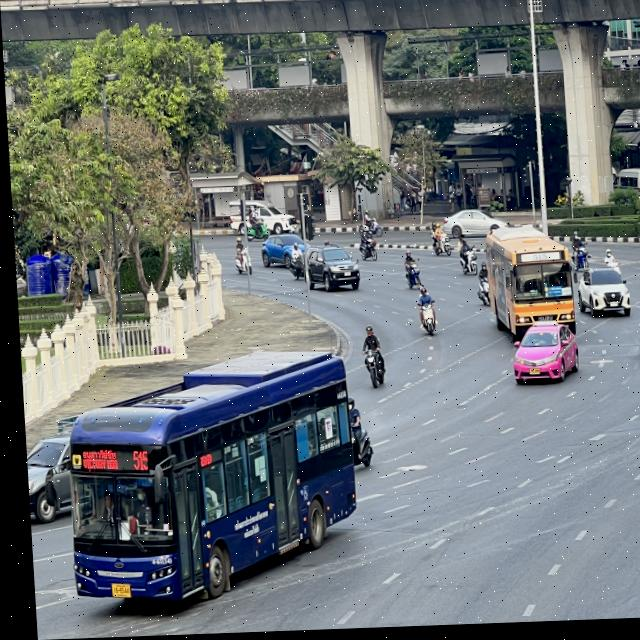BMTA-bus: (482, 229, 573, 375)
Bus-Line-Number: (123, 446, 146, 473), (528, 256, 545, 265)
Destination-Sign-Normal: (75, 448, 115, 474), (545, 291, 558, 300)
TSB-Bus: (55, 352, 372, 610)
